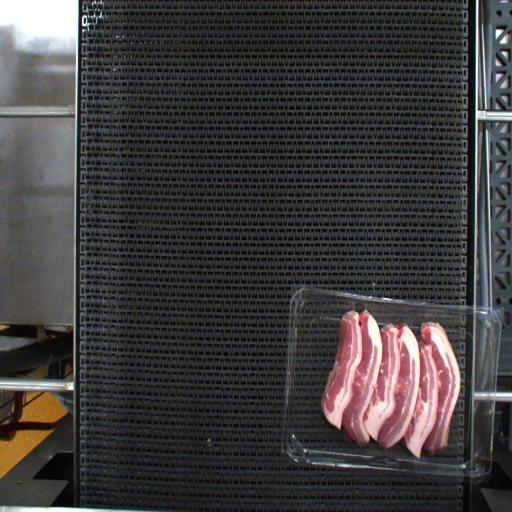packaging-error: (363, 300, 369, 314), (351, 298, 355, 313)
